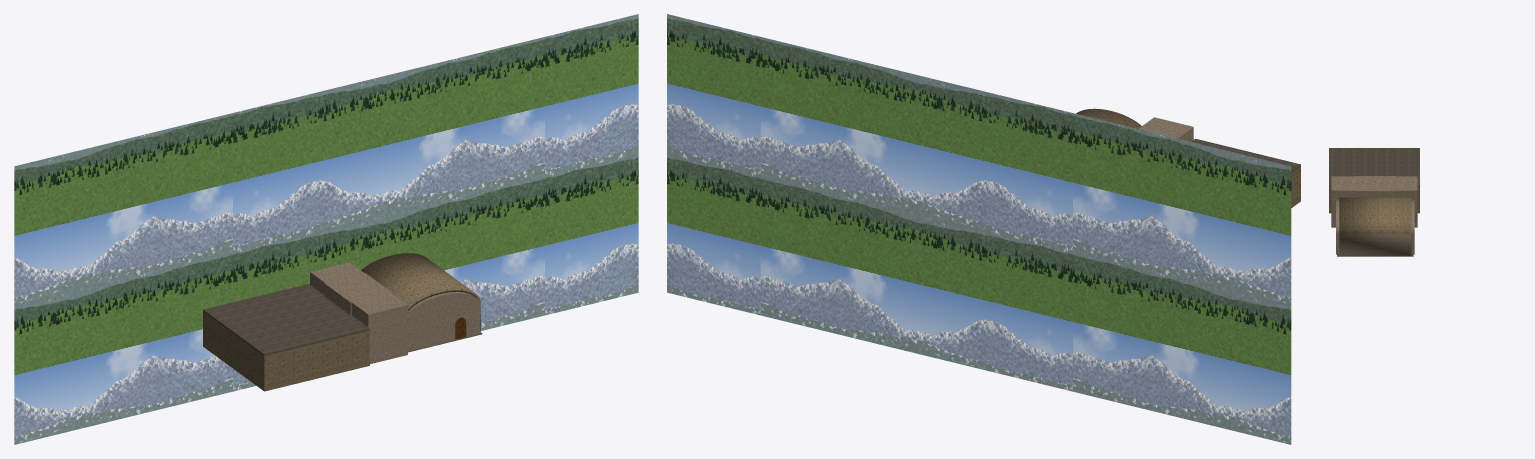
The model's file is spa.glb.
The picture shows the model from 3 angles, left to right: view 1: azimuth 30°, elevation 25°; view 2: azimuth 150°, elevation 25°; view 3: azimuth 270°, elevation 25°; orthographic projection. The views are drawn at different scales.
Parts seen in each view (by area): view 1: valley view, pool room ceiling, pool room wall.002, vault, front wall, party wall, pool room wall, sauna roof block, party wall.001; view 2: valley view, party wall; view 3: vault, pool room ceiling, sauna roof block, party wall, party wall.001, back wall, front wall.
Boxes of the visible parts, left/top/right/bottom form: valley view: left=14, top=14, right=638, bottom=444; pool room ceiling: left=203, top=284, right=369, bottom=355; pool room wall.002: left=263, top=330, right=369, bottom=391; vault: left=361, top=253, right=480, bottom=331; front wall: left=408, top=291, right=479, bottom=351; party wall: left=351, top=293, right=407, bottom=363; pool room wall: left=204, top=312, right=262, bottom=389; sauna roof block: left=324, top=273, right=391, bottom=315; party wall.001: left=310, top=262, right=363, bottom=294; valley view: left=667, top=14, right=1291, bottom=444; party wall: left=1138, top=117, right=1193, bottom=141; vault: left=1339, top=197, right=1411, bottom=255; pool room ceiling: left=1329, top=148, right=1419, bottom=186; sauna roof block: left=1356, top=176, right=1395, bottom=197; party wall: left=1331, top=176, right=1356, bottom=227; party wall.001: left=1395, top=176, right=1417, bottom=227; back wall: left=1411, top=200, right=1414, bottom=254; front wall: left=1336, top=200, right=1339, bottom=254.
Bounding box in the file's own units: 68 × 29 × 24.5.
43 materials, 25 textured.
